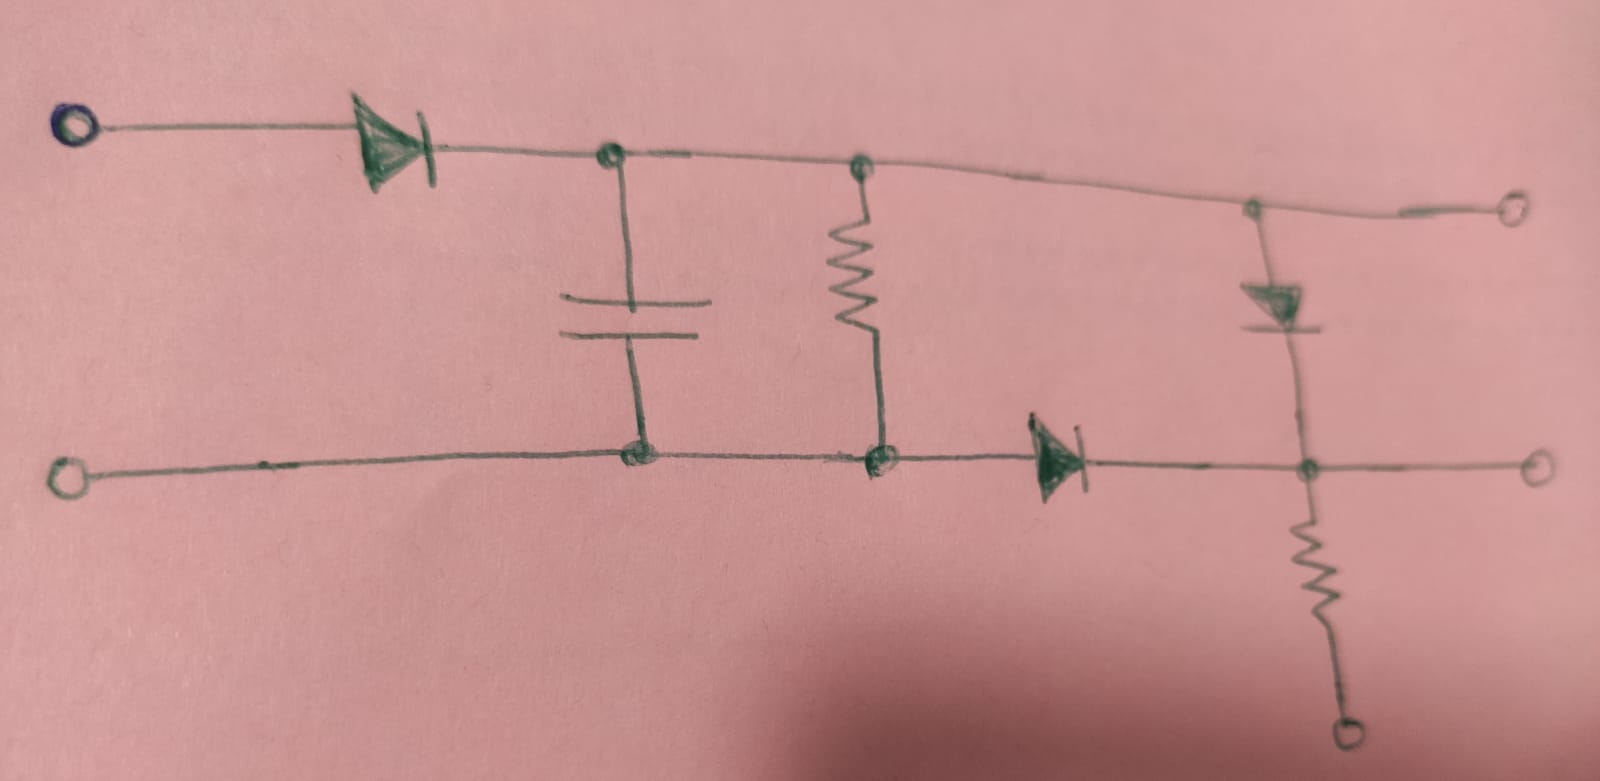capacitor.unpolarized: (560, 282, 708, 349)
diode: (351, 90, 444, 195), (1023, 412, 1095, 509), (1241, 271, 1321, 339)
junction: (857, 437, 911, 485), (608, 434, 669, 471), (842, 145, 882, 191), (592, 134, 634, 177), (1287, 450, 1330, 491), (1235, 189, 1274, 230)
resistor: (823, 210, 880, 346), (1284, 510, 1342, 631)
terminal: (48, 98, 111, 149), (40, 451, 103, 502), (1486, 185, 1535, 232), (1510, 446, 1559, 493), (1328, 714, 1370, 751)
